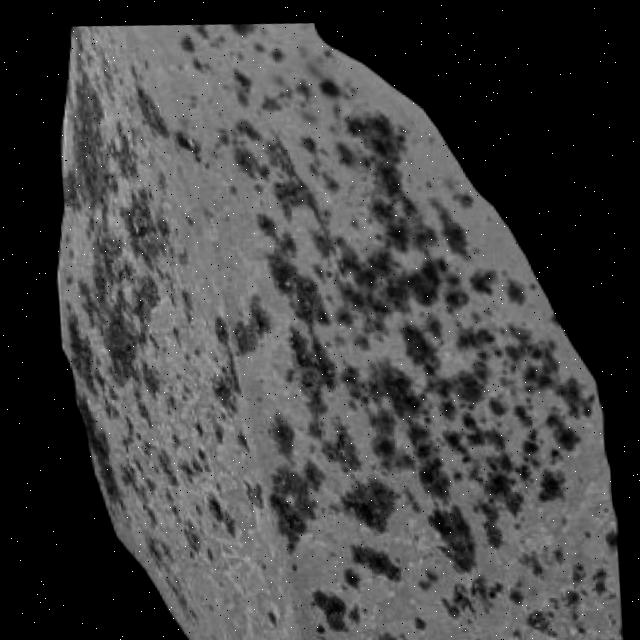mite: (289, 316, 342, 388), (341, 467, 405, 526), (429, 493, 482, 563), (352, 531, 408, 574), (314, 579, 356, 626), (537, 457, 572, 494), (129, 206, 155, 238), (264, 596, 288, 628), (529, 597, 559, 622), (228, 19, 258, 33), (269, 601, 283, 623)
spots: (37, 18, 630, 640)
